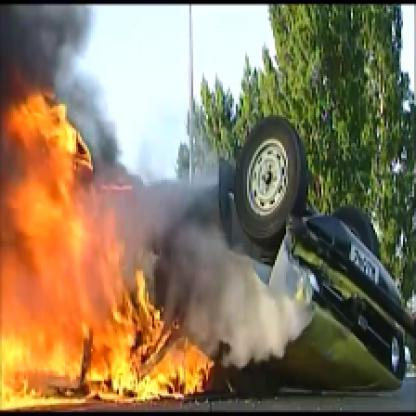Fire: (2, 86, 226, 414)
